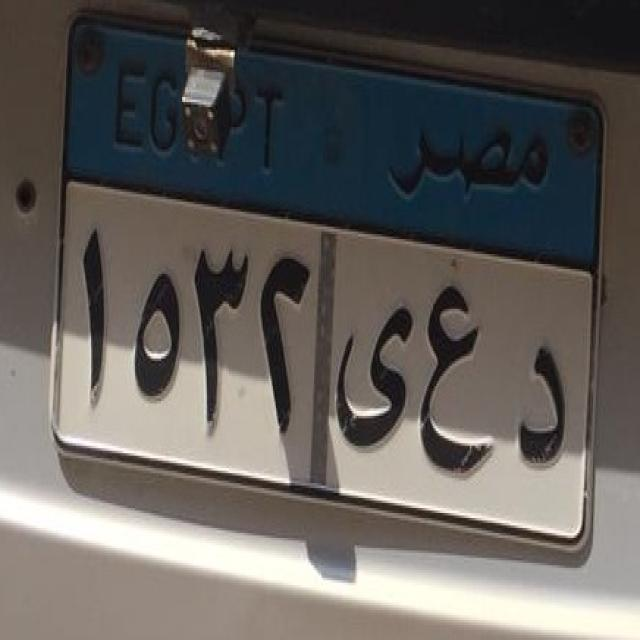1: (72, 209, 118, 430)
2: (246, 240, 319, 446)
3: (181, 234, 256, 450)
5: (122, 261, 190, 418)
Een: (415, 284, 498, 496)
Yeeh: (328, 283, 421, 463)
daal: (503, 320, 578, 486)
